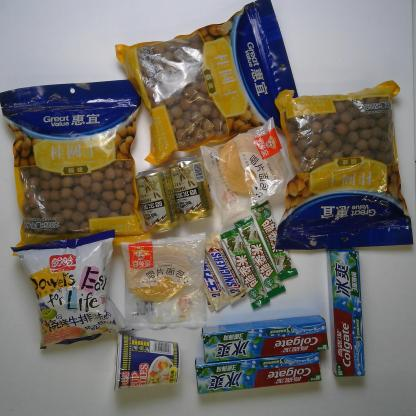Alcohol: (134, 166, 181, 236), (168, 154, 214, 224)
Chocolate: (233, 214, 287, 300), (219, 226, 271, 310), (250, 199, 299, 283), (200, 230, 250, 306), (194, 247, 232, 313)
Dessert: (198, 116, 299, 229), (118, 230, 211, 334)
Dried Food: (113, 2, 303, 166), (1, 76, 156, 258), (270, 78, 414, 252)
Instant Noodles: (110, 330, 183, 396)
Personal Hygiene: (200, 314, 330, 365), (192, 351, 324, 396), (325, 247, 367, 378)
Puffed Food: (10, 226, 138, 352)
